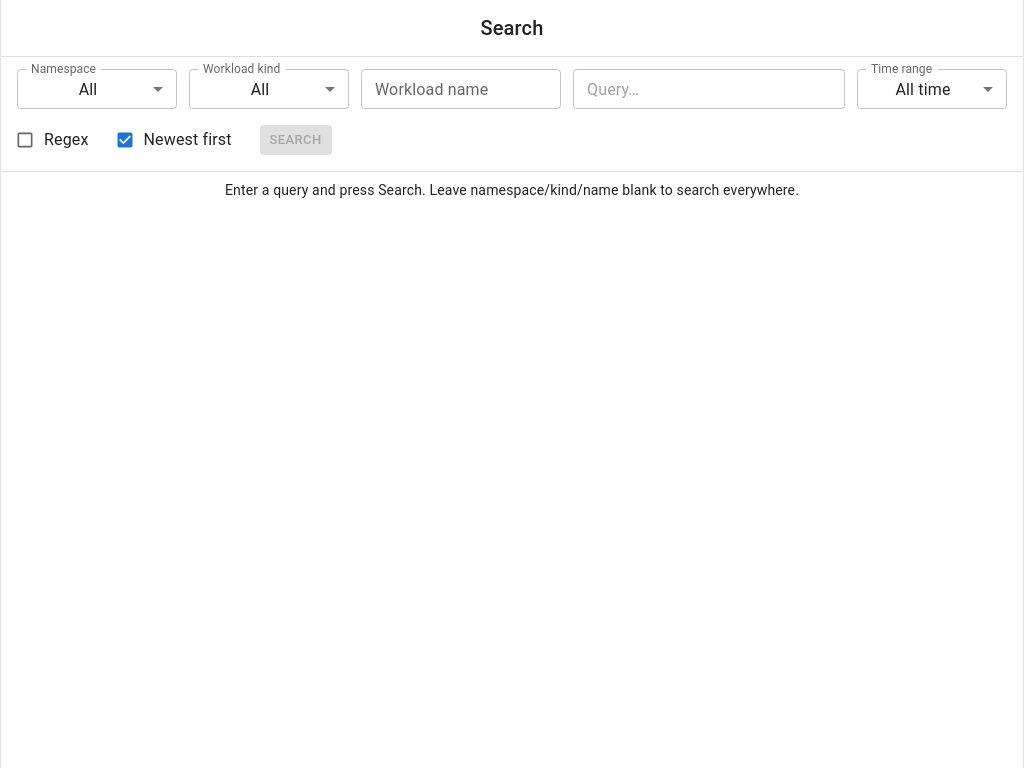
it: SearchPage › shows an error message when the search fails
In the field with placeholder "Query…": (709,89) [573,69,845,109], type "("
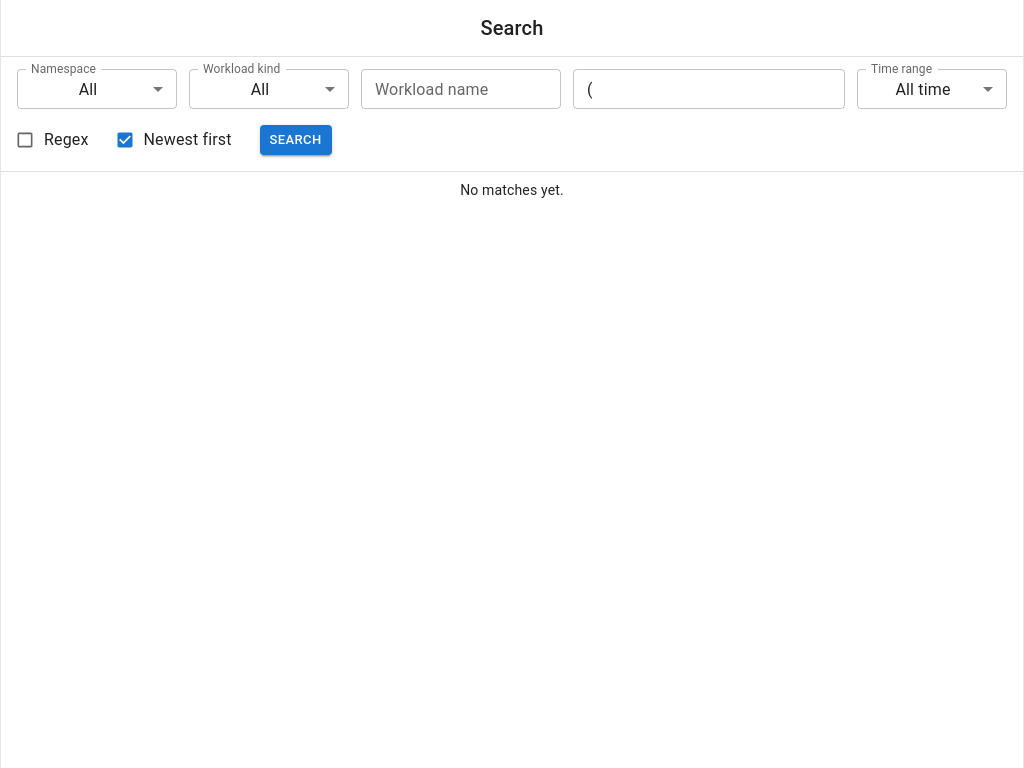
Click the checkbox labelled "Regex": (52,140) [15,130,88,150]
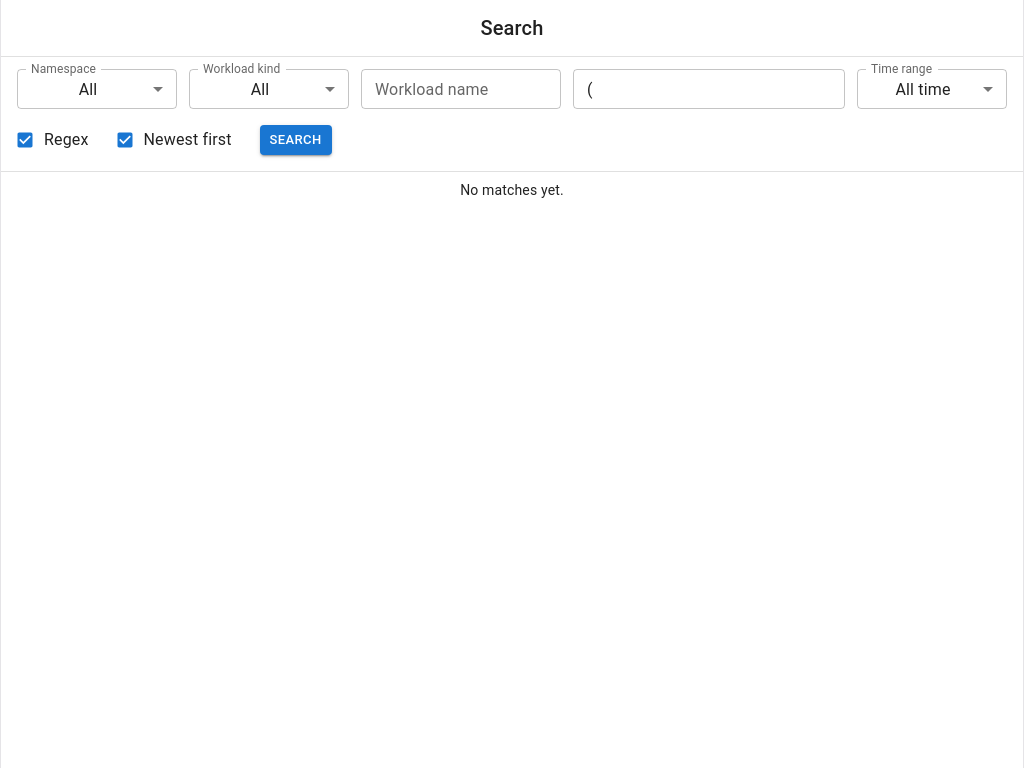
Click the button "Search": (296,140) [260,125,332,155]
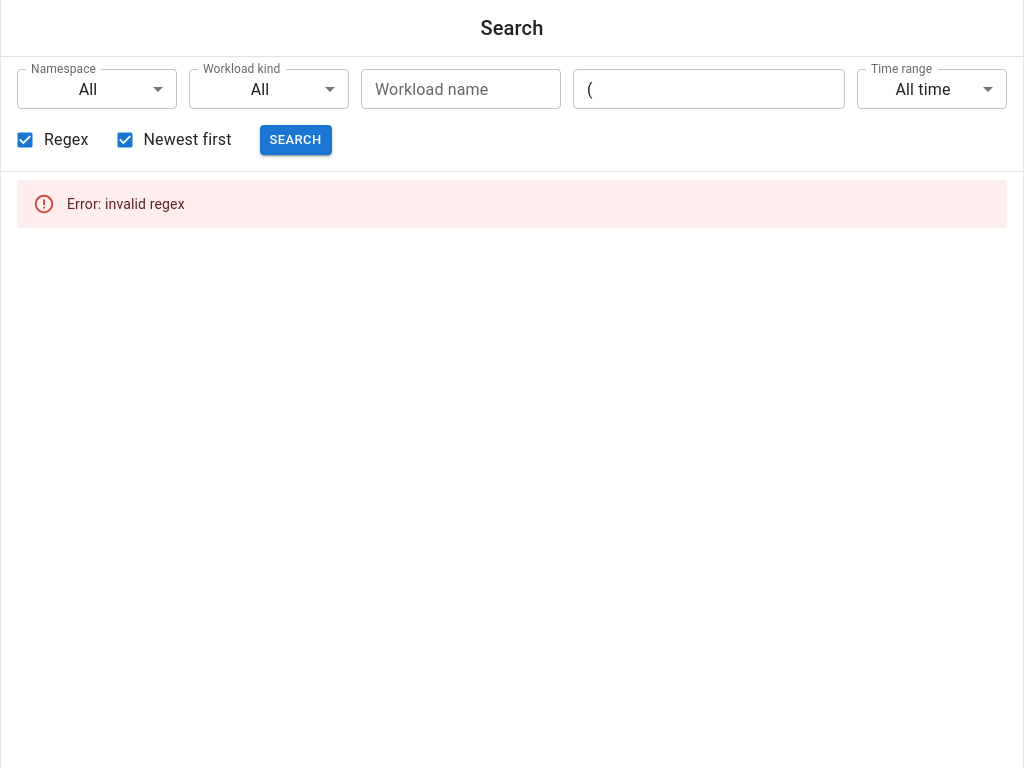
Check: the text "Error: invalid regex" is shown, box [67,196,185,212]
